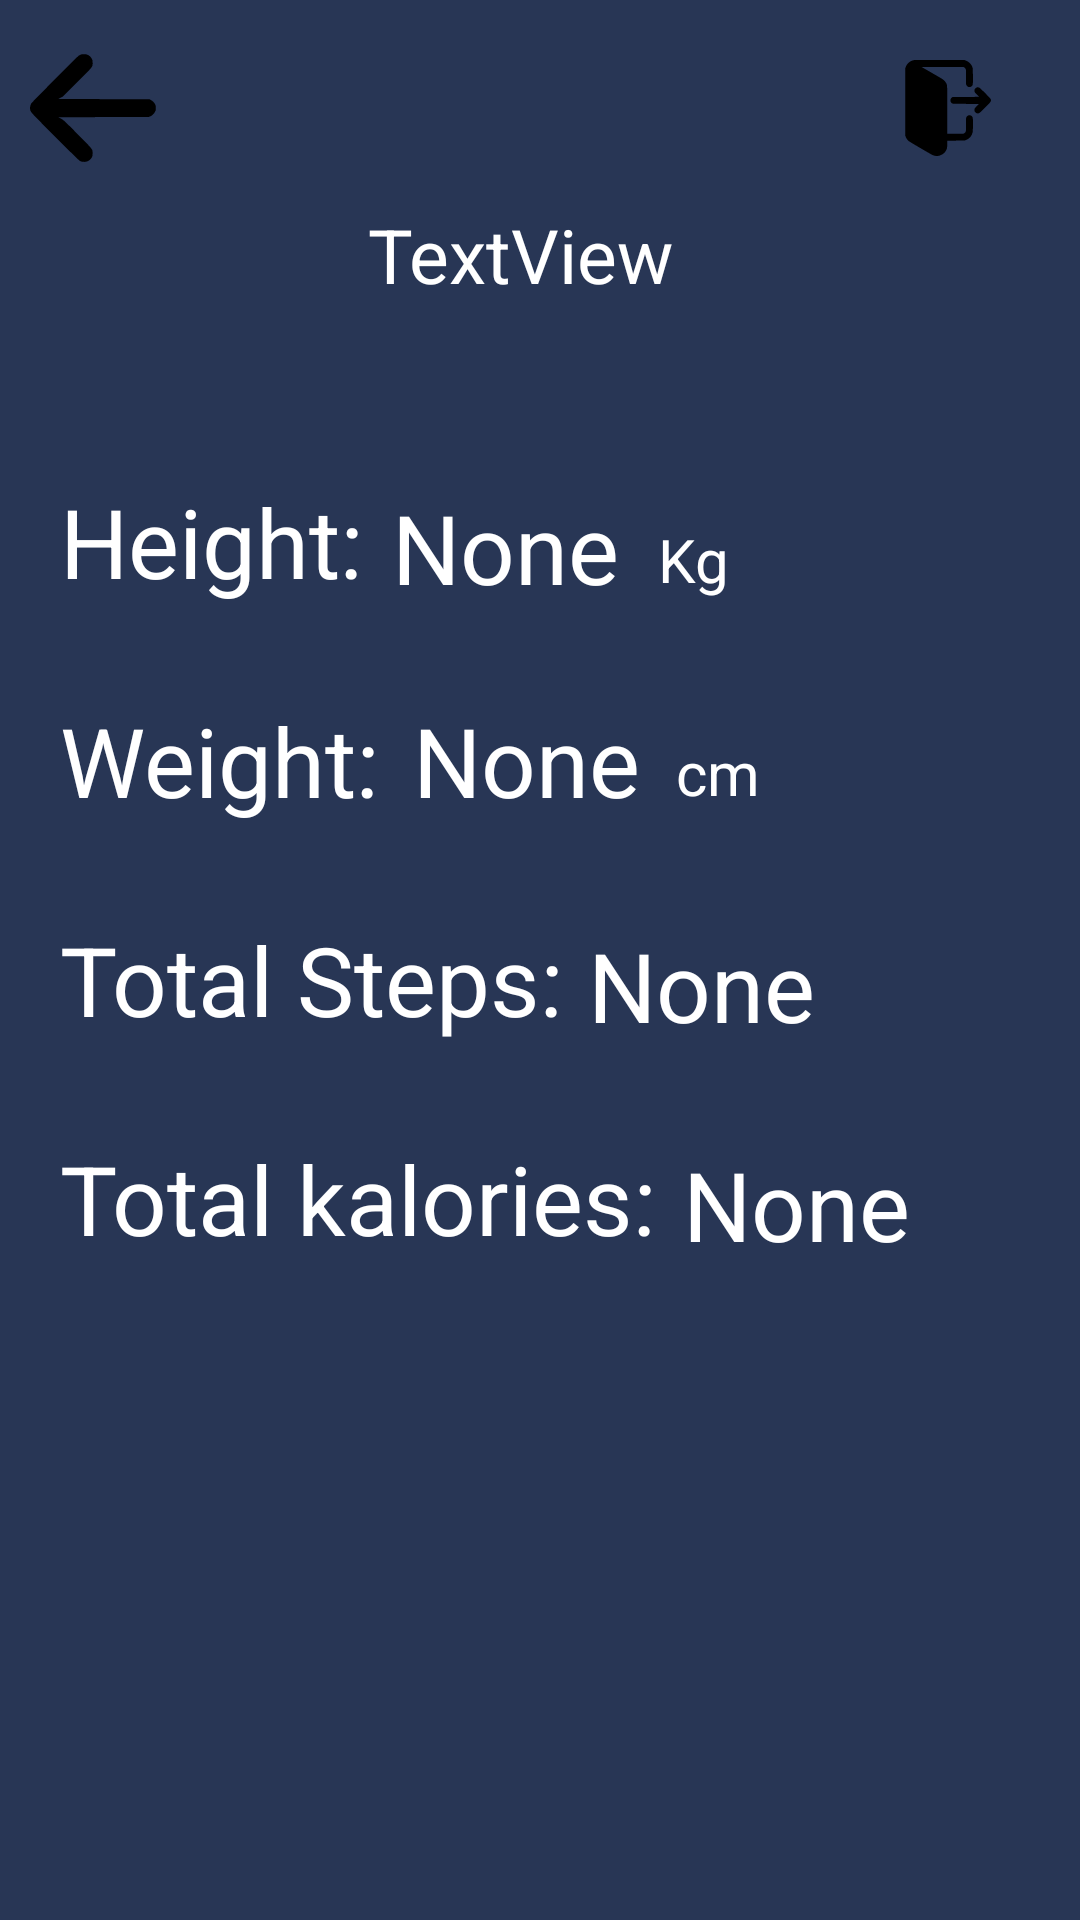

Named icons in this screenshot (1080px×1920px) and their bounding boxes, bbox=[x1, y1, x2, y2]:
arrow: bbox=[30, 54, 156, 162]
